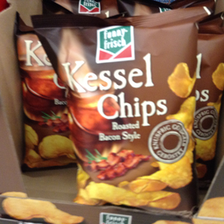chips: (30, 14, 203, 209)
